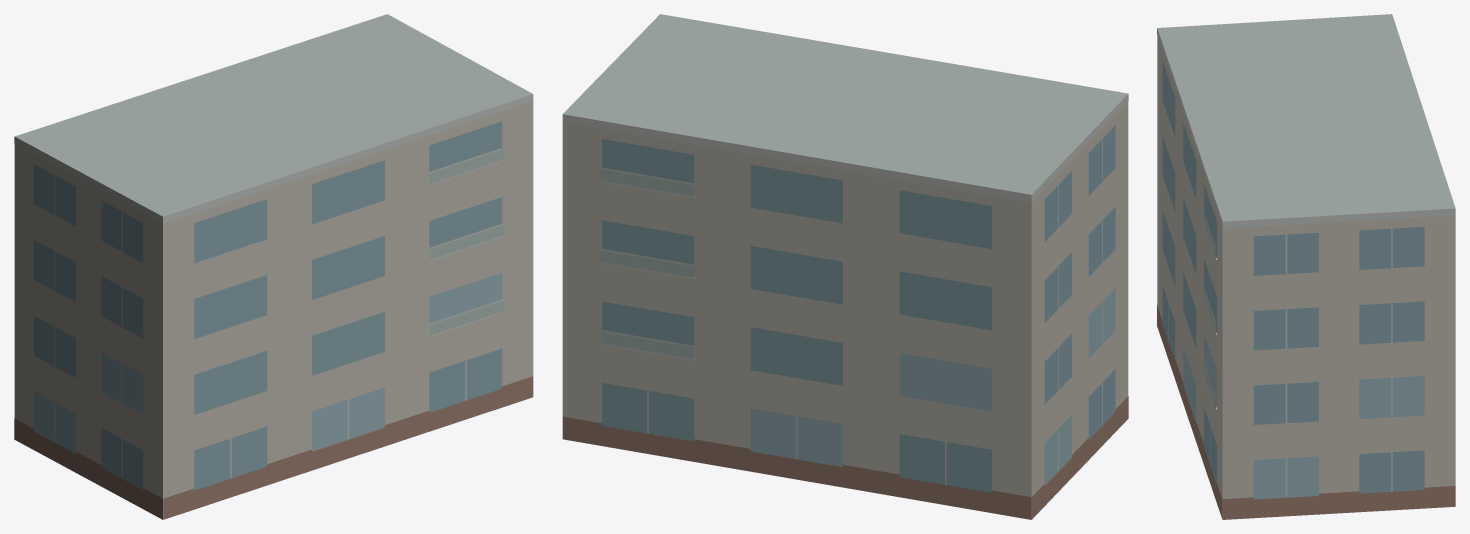
File: survey-upis-32523835.glb
3 views of the same model, side by side, from view 1: azimuth 30°, elevation 25°; view 2: azimuth 150°, elevation 25°; view 3: azimuth 270°, elevation 25° (orthographic). The views are drawn at different scales.
Visible parts, largest first — view 1: survey-upis-32523835.tmp; view 2: survey-upis-32523835.tmp; view 3: survey-upis-32523835.tmp.
Part boxes in pixels (x1,y1,x2,y2): survey-upis-32523835.tmp: (14,14,533,519); survey-upis-32523835.tmp: (562,14,1128,519); survey-upis-32523835.tmp: (1157,14,1455,519).
Bounding box in the file's own units: 15.54 × 10.4 × 9.44.
